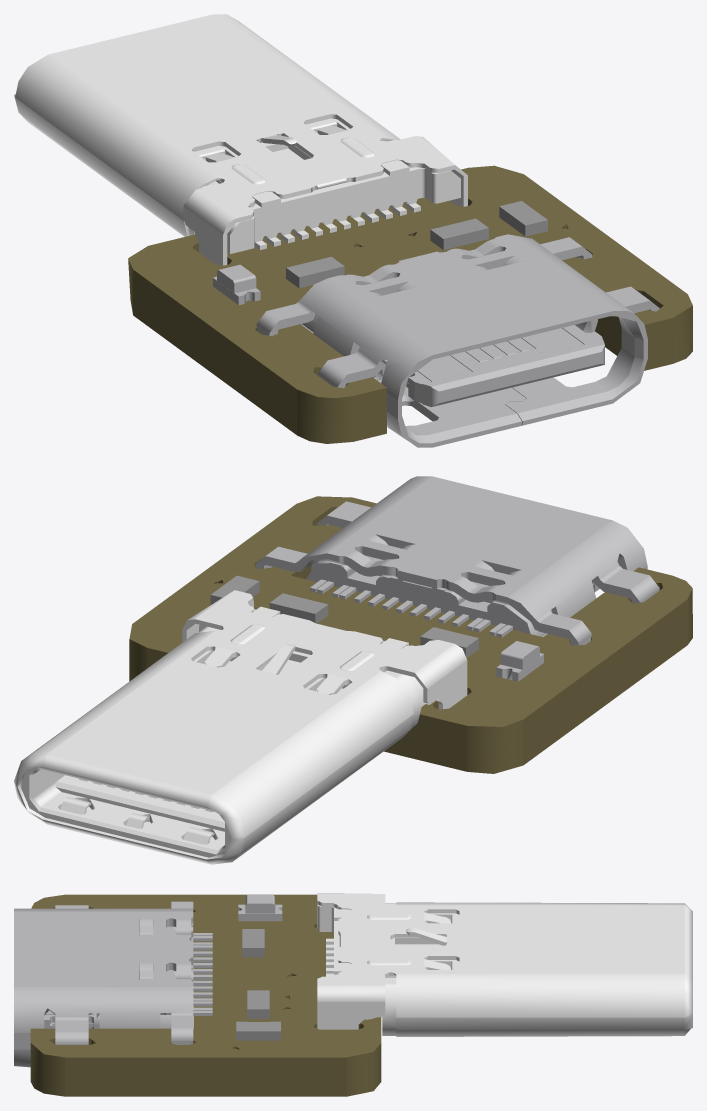
The model's file is ada-6323.glb.
3 views of the same model, one above another, from view 1: azimuth 30°, elevation 25°; view 2: azimuth 150°, elevation 25°; view 3: azimuth 270°, elevation 25° (orthographic). The views are drawn at different scales.
Visible parts, largest first — view 1: 0.9166666666666666_0.9166666666666666_0.9166666666666666_0.8, 0.5833333333333334_0.5833333333333334_0.5833333333333334_0.8, 0.16666666666666666_0.16666666666666666_0.08333333333333333_, 0.3333333333333333_0.3333333333333333_0.3333333333333333_0; view 2: 0.9166666666666666_0.9166666666666666_0.9166666666666666_0.8, 0.16666666666666666_0.16666666666666666_0.08333333333333333_, 0.5833333333333334_0.5833333333333334_0.5833333333333334_0.8, 0.3333333333333333_0.3333333333333333_0.3333333333333333_0; view 3: 0.9166666666666666_0.9166666666666666_0.9166666666666666_0.8, 0.16666666666666666_0.16666666666666666_0.08333333333333333_, 0.5833333333333334_0.5833333333333334_0.5833333333333334_0.8, 0.3333333333333333_0.3333333333333333_0.3333333333333333_0.
Boxes of the visible parts, x1=… form: 0.9166666666666666_0.9166666666666666_0.9166666666666666_0.8: x1=14, y1=14, x2=467, y2=265; 0.5833333333333334_0.5833333333333334_0.5833333333333334_0.8: x1=213, y1=234, x2=659, y2=447; 0.16666666666666666_0.16666666666666666_0.08333333333333333_: x1=128, y1=165, x2=692, y2=443; 0.3333333333333333_0.3333333333333333_0.3333333333333333_0: x1=286, y1=201, x2=547, y2=288; 0.9166666666666666_0.9166666666666666_0.9166666666666666_0.8: x1=14, y1=590, x2=467, y2=864; 0.16666666666666666_0.16666666666666666_0.08333333333333333_: x1=129, y1=496, x2=692, y2=773; 0.5833333333333334_0.5833333333333334_0.5833333333333334_0.8: x1=255, y1=476, x2=659, y2=681; 0.3333333333333333_0.3333333333333333_0.3333333333333333_0: x1=210, y1=575, x2=478, y2=657; 0.9166666666666666_0.9166666666666666_0.9166666666666666_0.8: x1=317, y1=893, x2=692, y2=1036; 0.16666666666666666_0.16666666666666666_0.08333333333333333_: x1=30, y1=894, x2=381, y2=1096; 0.5833333333333334_0.5833333333333334_0.5833333333333334_0.8: x1=14, y1=894, x2=282, y2=1067; 0.3333333333333333_0.3333333333333333_0.3333333333333333_0: x1=236, y1=929, x2=280, y2=1040.
Size of the model in its own units: 1.4 by 0.3932 by 2.46.
